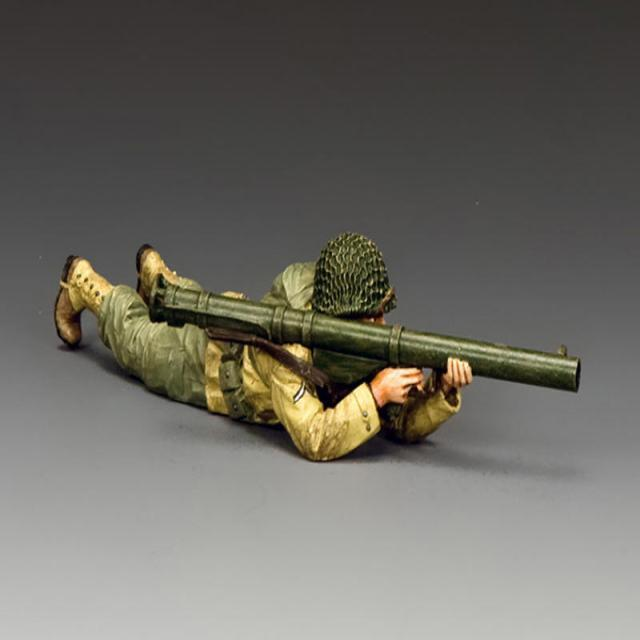rocket launcher: (140, 275, 589, 400)
